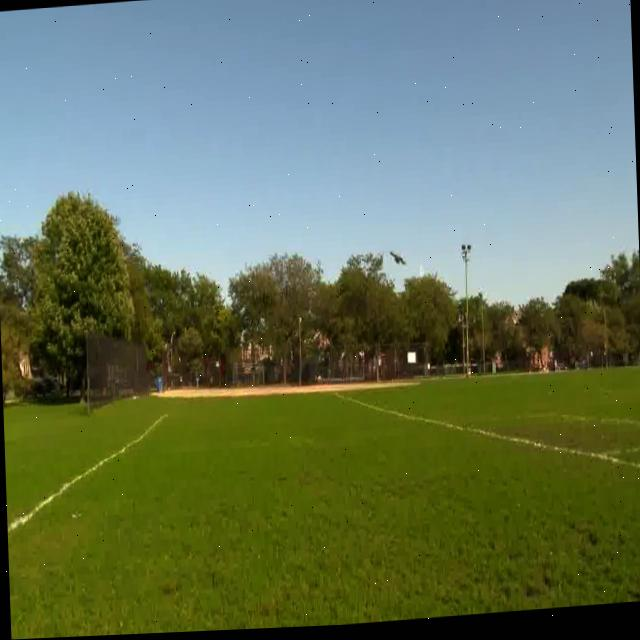drone: (388, 241, 411, 280)
